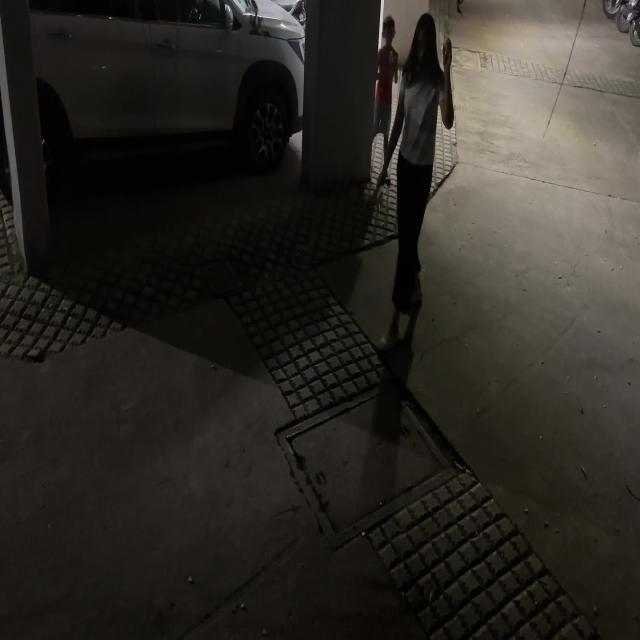human: (377, 11, 458, 348), (365, 12, 400, 181)
